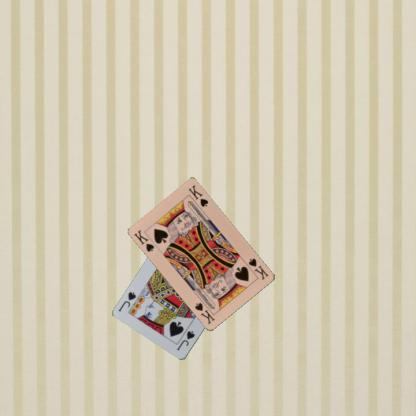Js: (174, 328, 196, 352)
Ks: (131, 227, 156, 253), (246, 256, 270, 282)
